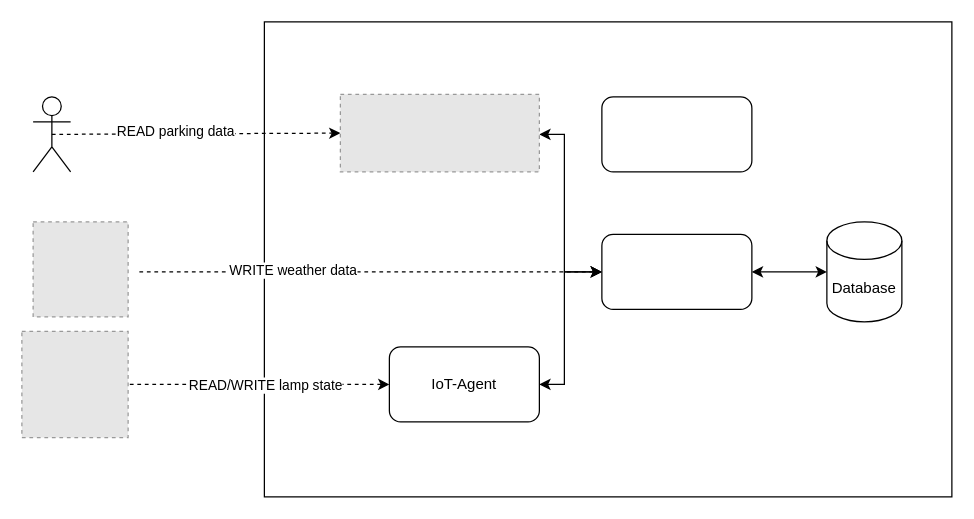
The diagram is 974 pixels wide and 519 high, and some of its shapes have lost their labels. Grey dashed boxes stand in for pictures. Here are the shapes that lost their labels. From the top down, the centre of each, then its label:
At (x=676, y=134): "IDM - Component".
At (x=676, y=271): "Context Broker".
